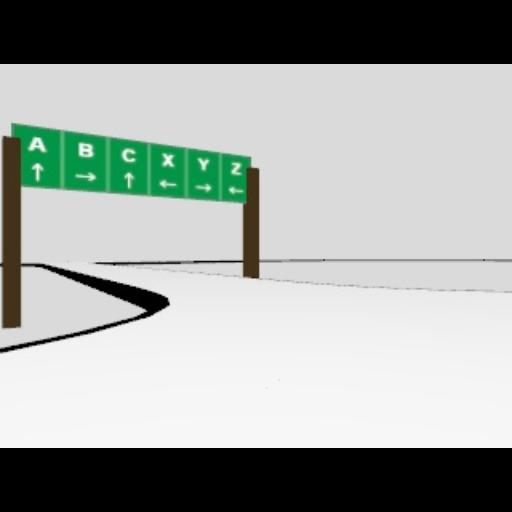A: (28, 136, 46, 152)
B: (78, 142, 94, 156)
C: (120, 147, 136, 161)
Left: (158, 179, 178, 187), (227, 186, 243, 194)
Right: (74, 171, 98, 181), (193, 182, 211, 192)
Straight: (30, 162, 44, 180), (124, 171, 134, 189)
X: (162, 152, 174, 166)
Y: (196, 157, 210, 171)
Z: (230, 162, 242, 174)
